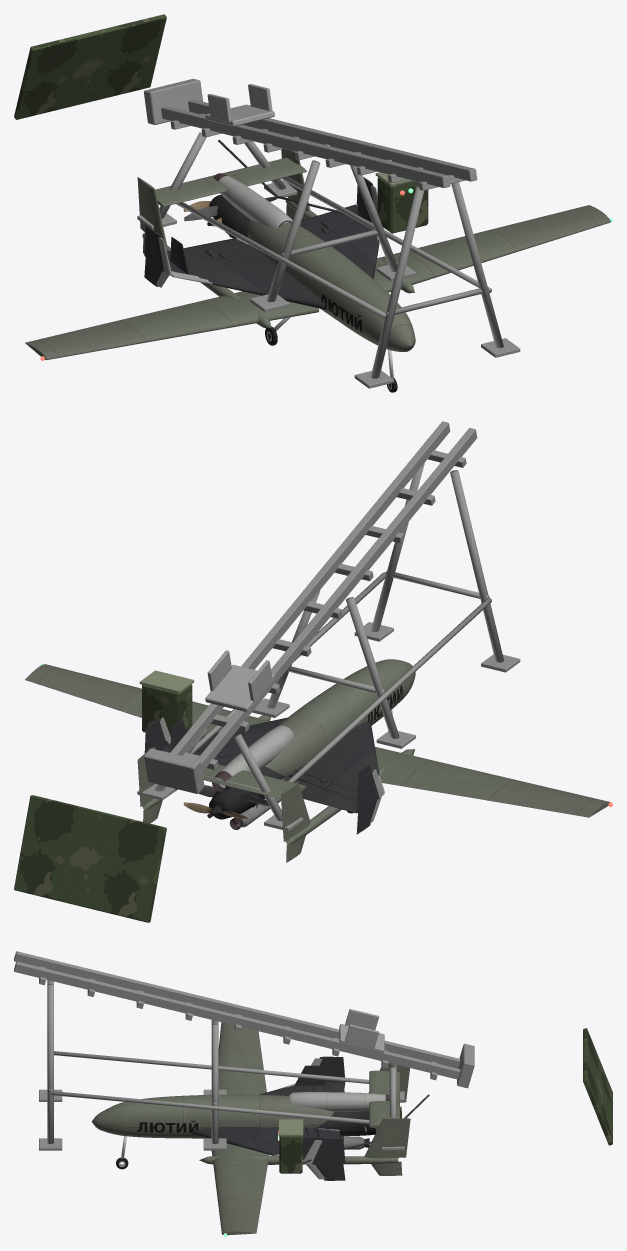
File: shahed.glb
3 views of the same model, one above another, from view 1: azimuth 30°, elevation 25°; view 2: azimuth 150°, elevation 25°; view 3: azimuth 270°, elevation 25° (orthographic). The views are drawn at different scales.
Parts seen in each view (by area): view 1: RAIL_geo, LIUTYI_geo, S136_geo, S238_geo, RAIL_cradle_geo, S131_geo; view 2: RAIL_geo, LIUTYI_geo, S136_geo, RAIL_cradle_geo, S238_geo; view 3: RAIL_geo, LIUTYI_geo, S136_geo, S238_geo, RAIL_cradle_geo, S131_geo.
Boxes of the visible parts, x1,y1,x2,y2 form: RAIL_geo: (14, 14, 520, 388); LIUTYI_geo: (25, 149, 612, 392); S136_geo: (144, 177, 379, 309); S238_geo: (156, 173, 383, 287); RAIL_cradle_geo: (205, 84, 274, 126); S131_geo: (170, 191, 372, 274); RAIL_geo: (14, 421, 520, 922); LIUTYI_geo: (25, 659, 612, 862); S136_geo: (144, 717, 379, 834); RAIL_cradle_geo: (205, 650, 274, 711); S238_geo: (160, 717, 384, 823); RAIL_geo: (14, 951, 612, 1173); LIUTYI_geo: (91, 1022, 410, 1236); S136_geo: (191, 1056, 375, 1180); S238_geo: (274, 1058, 389, 1179); RAIL_cradle_geo: (339, 1009, 384, 1053); S131_geo: (294, 1065, 358, 1157).
Bounding box in the file's own units: 6.79 × 3.06 × 7.81.
19 materials, 7 textured.
